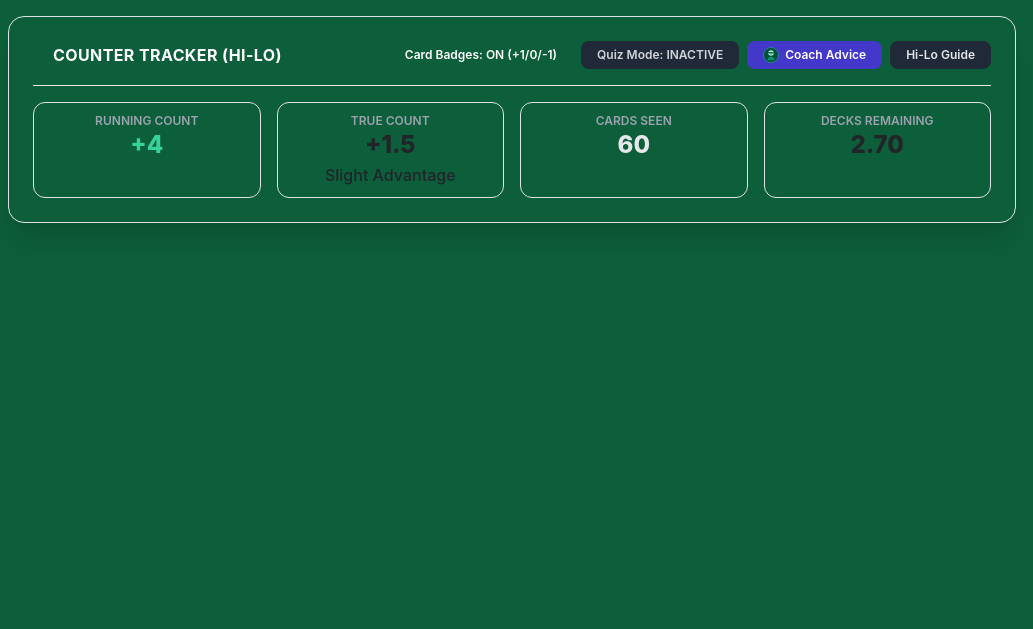
Scenario: CardCountingTrainer component › opens and closes Coach Advice modal
Click the button "Coach Advice": (815, 55) [747,41,882,69]
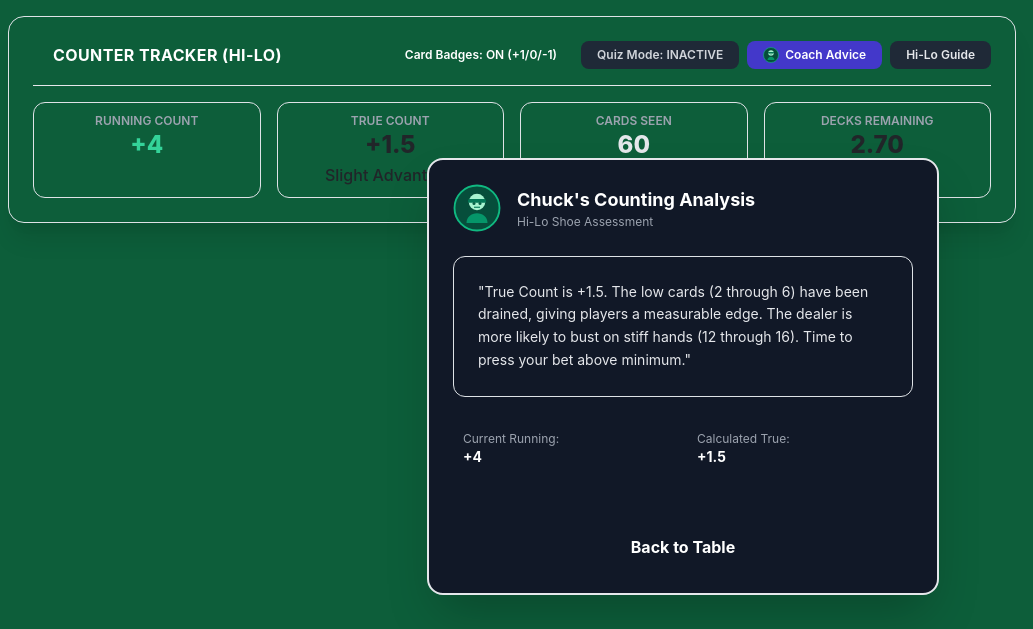
Result: the heading "Chuck's Counting Analysis" is shown at [517,186,755,214]
Click the button "Back to Table": (683, 546) [453,524,913,568]
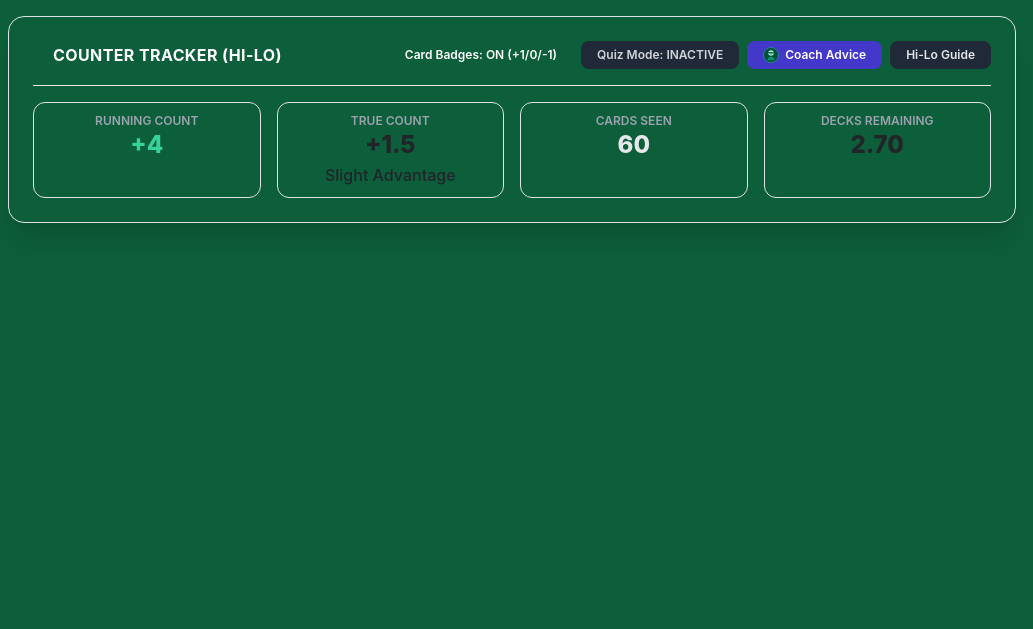
Result: the heading "Chuck's Counting Analysis" is gone
